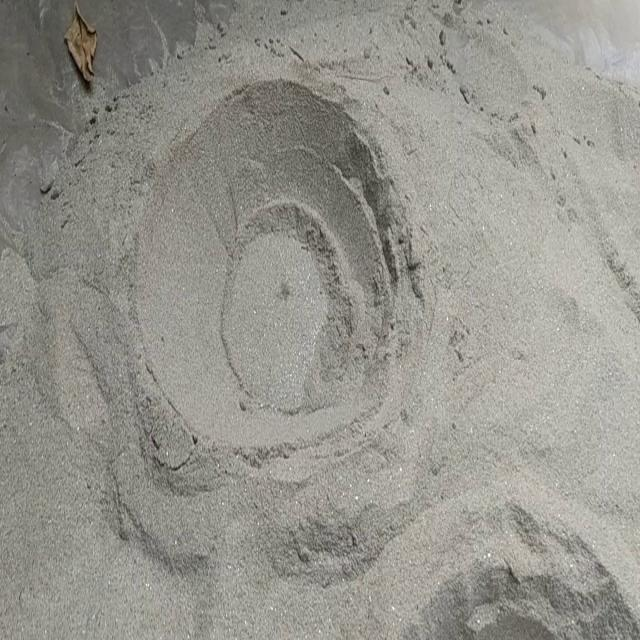C20: (131, 80, 413, 495)
